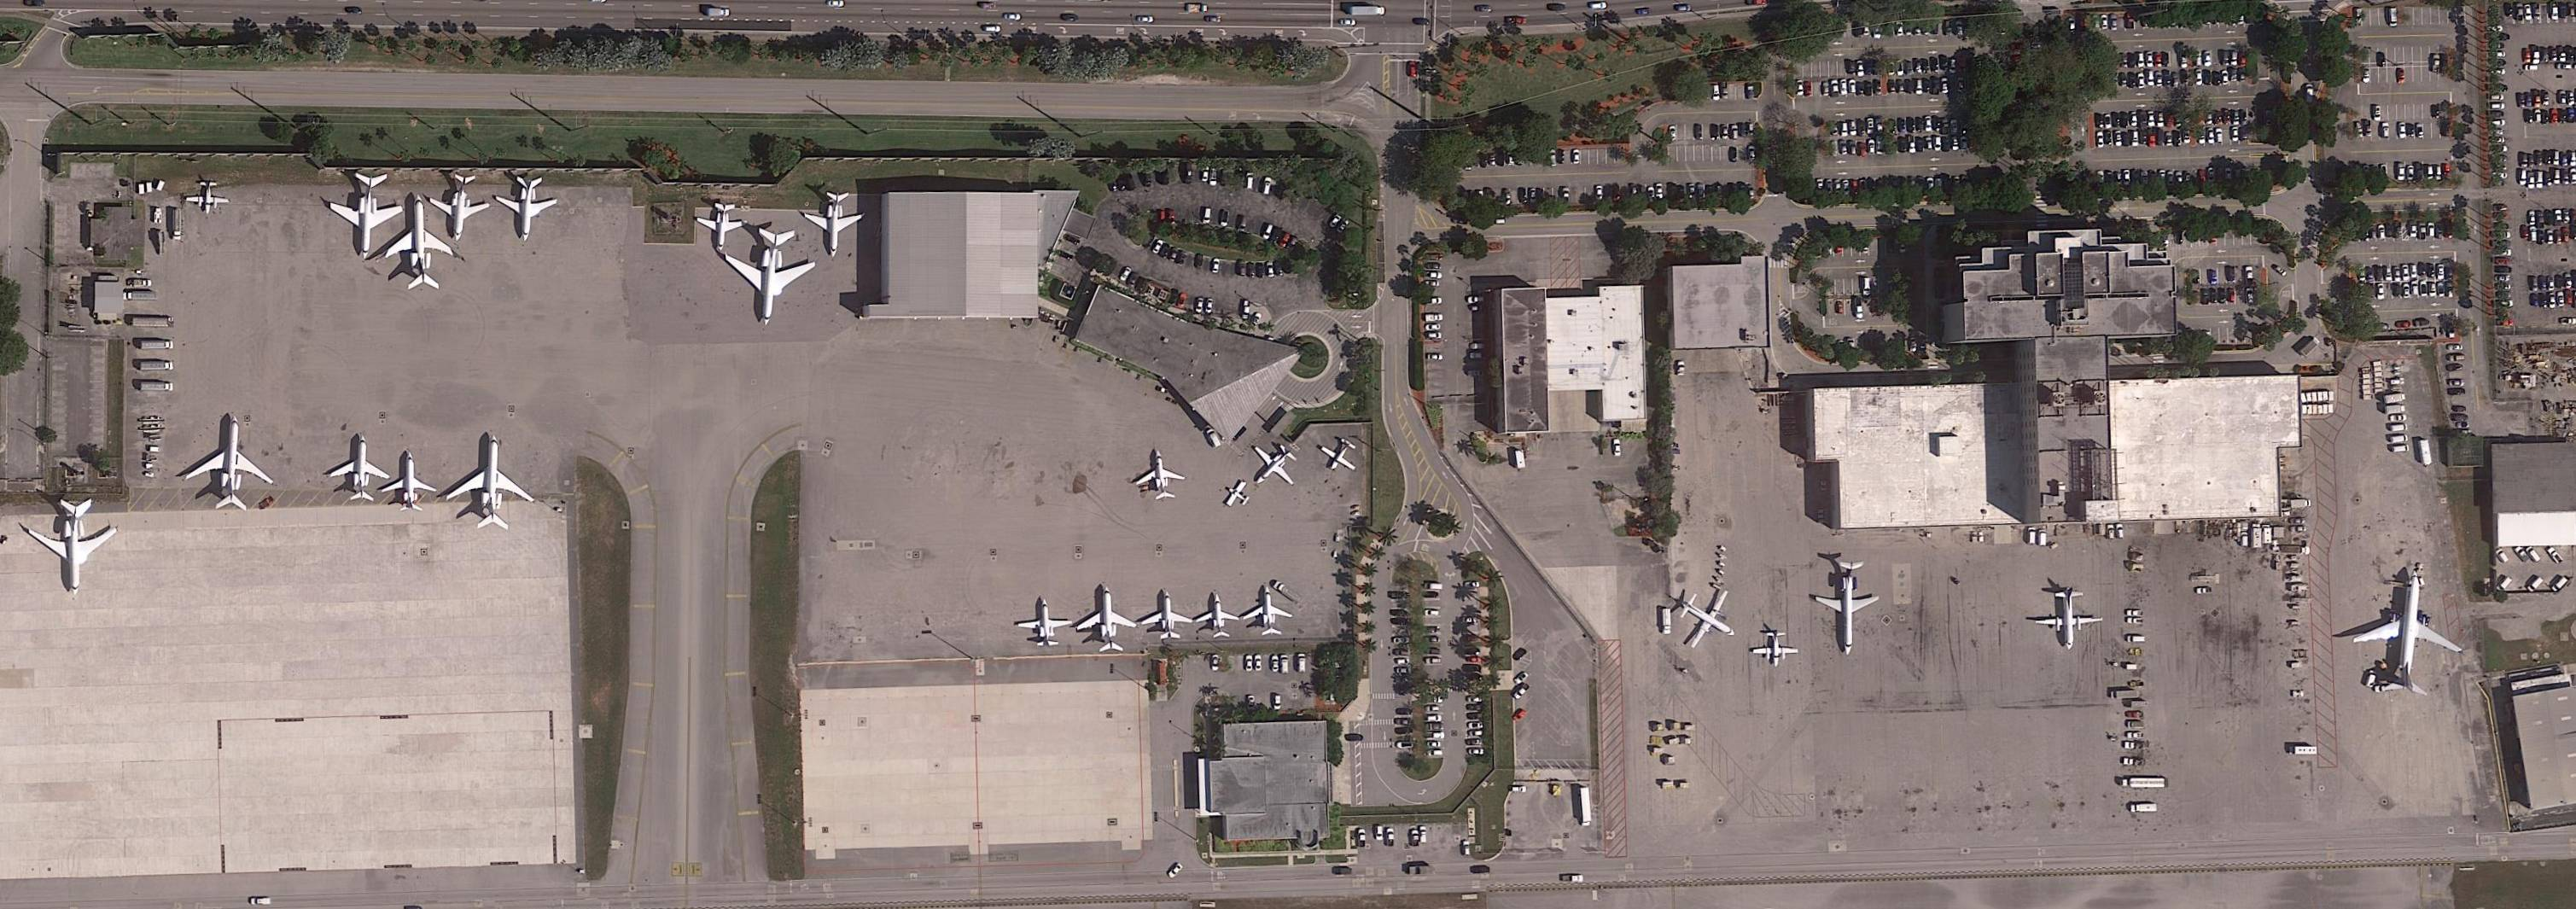plane: (2346, 562, 2476, 702), (715, 222, 820, 330), (179, 408, 281, 518), (25, 491, 120, 600), (444, 432, 540, 533), (1666, 574, 1751, 666), (327, 169, 406, 261), (384, 192, 453, 293), (1814, 559, 1879, 659), (425, 168, 493, 247), (325, 432, 394, 506), (1237, 431, 1308, 501), (800, 187, 867, 260), (493, 173, 559, 245), (2032, 588, 2103, 653), (1076, 585, 1138, 653), (381, 449, 439, 514), (1132, 447, 1186, 503), (1017, 595, 1074, 648), (695, 201, 749, 255), (1313, 429, 1365, 480), (1142, 590, 1194, 639), (1245, 587, 1293, 636), (1196, 592, 1239, 639), (184, 178, 232, 217), (1753, 630, 1797, 669), (1221, 477, 1255, 514)
